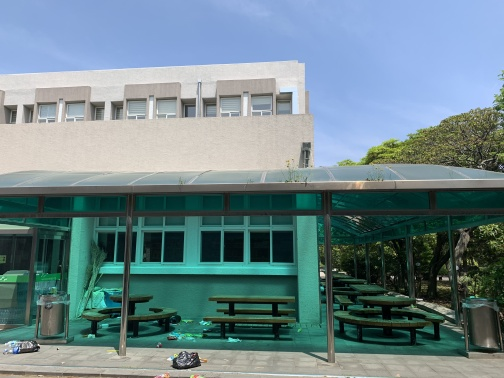Ara Hall: (2, 161, 503, 370)
